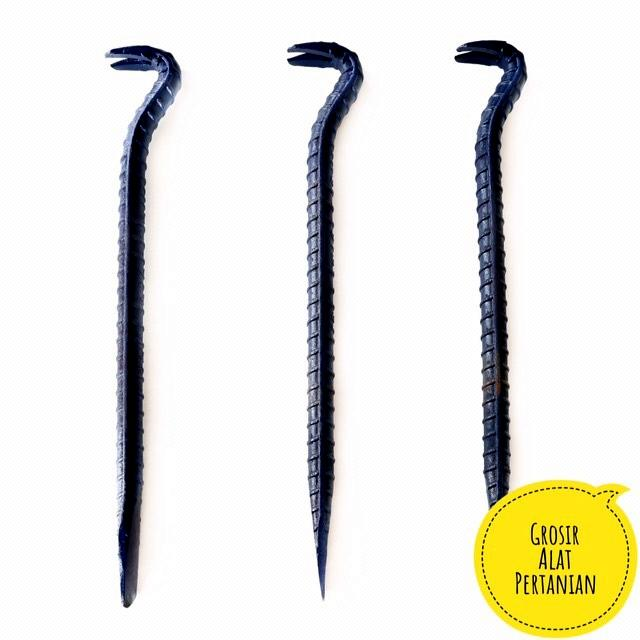crow bar: (90, 44, 187, 613), (271, 46, 370, 603), (446, 40, 534, 511)
